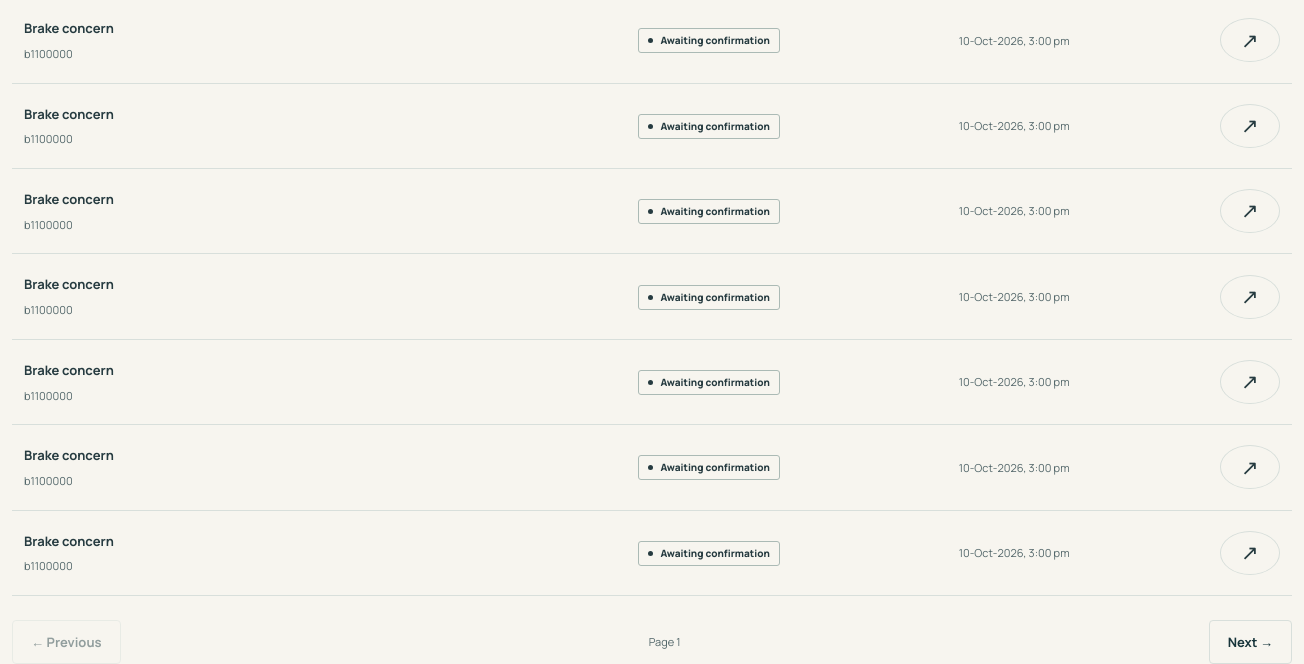
Test: paginates a full API page without inventing a total count
(page scrolled)
Click the button "Next →".
click(1250, 642)  # box [1209, 620, 1292, 663]
(page scrolled)
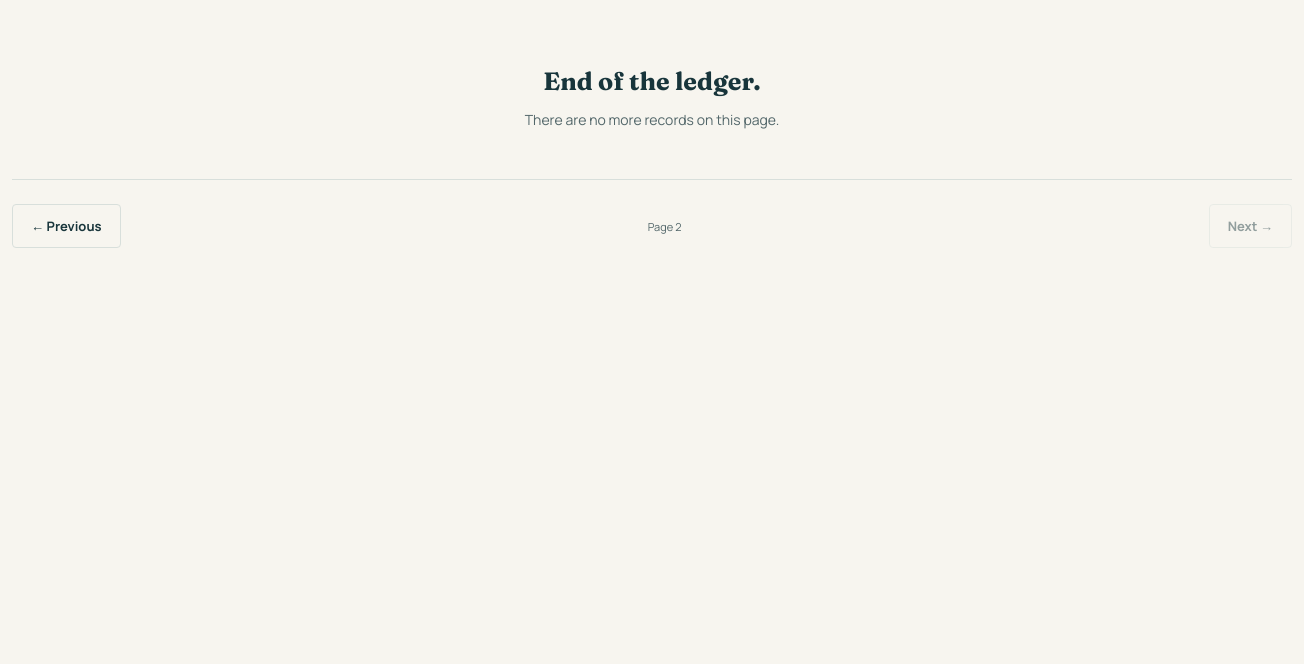
Now the heading "End of the ledger." is shown, box [543, 66, 761, 96]
